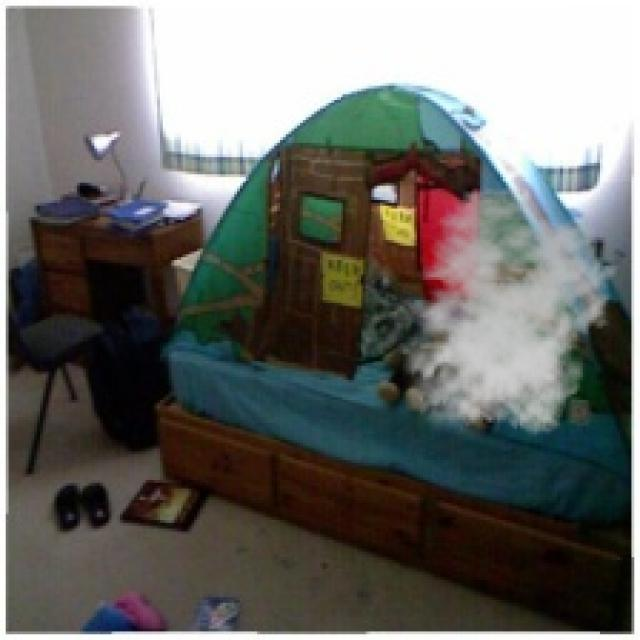smoke: (392, 186, 617, 443)
